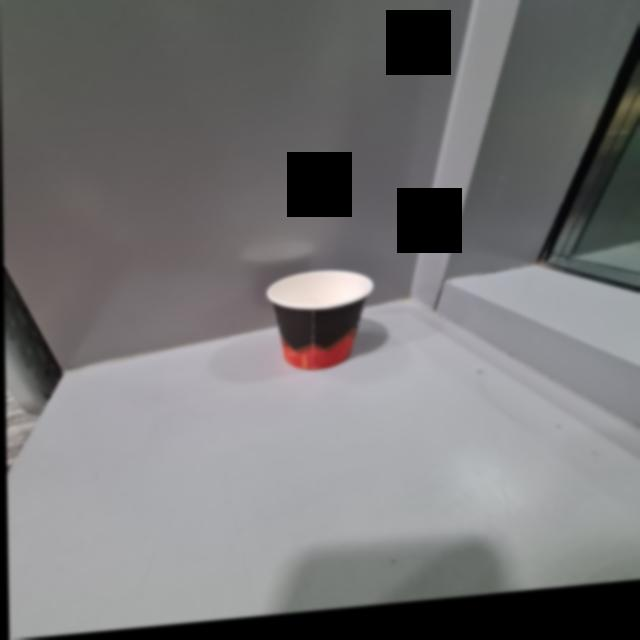cups: (266, 274, 373, 381)
